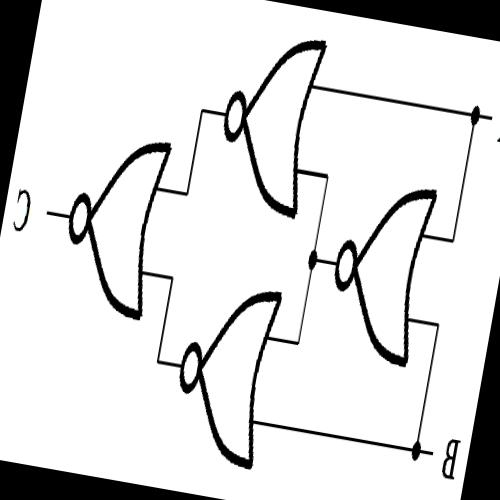nor: (202, 11, 334, 229), (45, 116, 178, 330), (155, 266, 289, 476), (312, 163, 444, 374)
